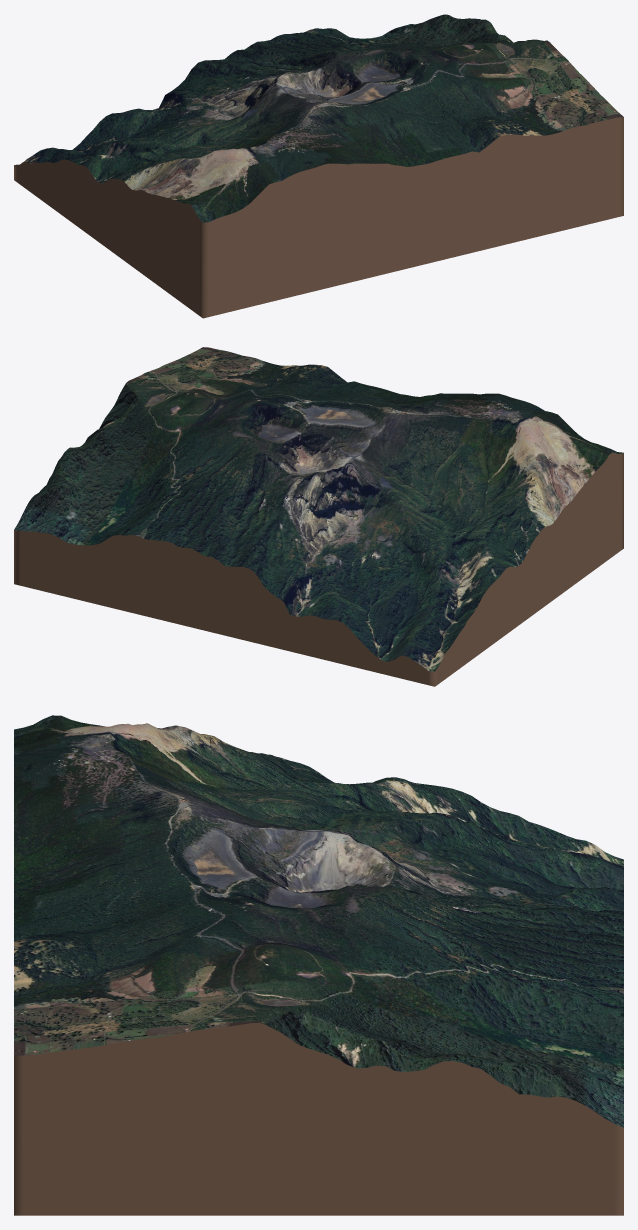
Rendered from Volcan_Irazu.glb.
The picture shows the model from 3 angles, top to bottom: view 1: azimuth 30°, elevation 25°; view 2: azimuth 150°, elevation 25°; view 3: azimuth 270°, elevation 25°; orthographic projection. The views are drawn at different scales.
Parts seen in each view (by area): view 1: Mapa; view 2: Mapa; view 3: Mapa.
Boxes of the visible parts, x1,y1,x2,y2 form: Mapa: [14, 14, 623, 318]; Mapa: [14, 347, 623, 686]; Mapa: [14, 715, 623, 1215].
Bounding box in the file's own units: 0.9998 × 0.303 × 0.7776.
Materials: 2 (1 with a texture image).
